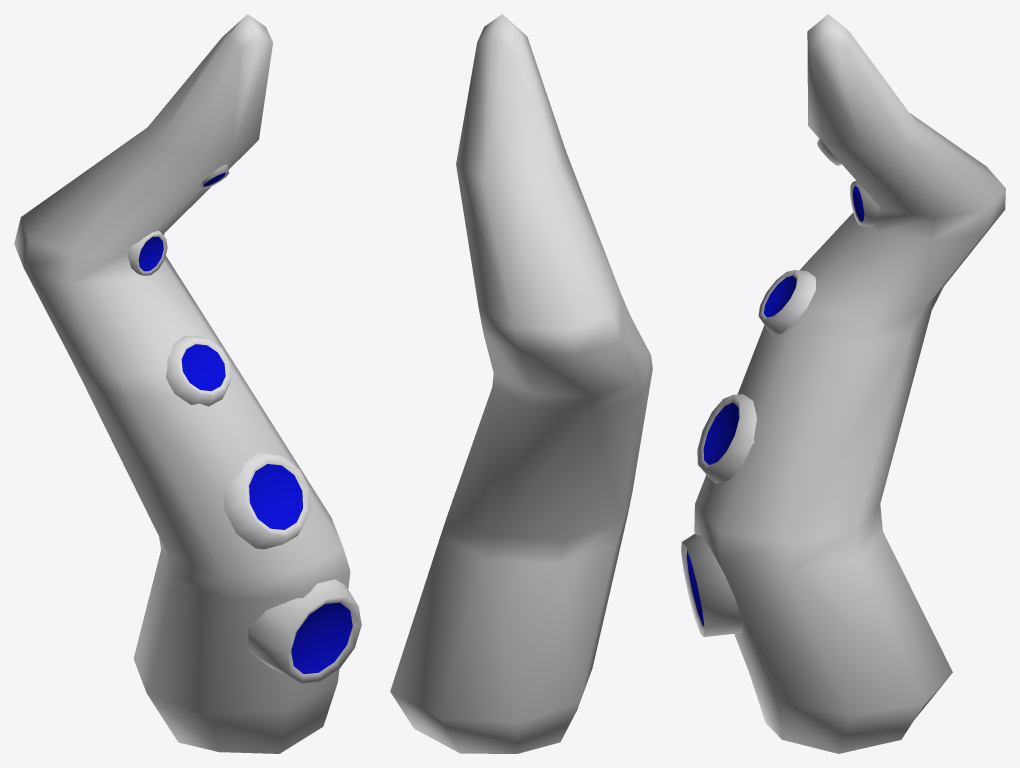
The model's file is SM_Tentacle_Small3.fbx.
The picture shows the model from 3 angles, left to right: view 1: azimuth 30°, elevation 25°; view 2: azimuth 150°, elevation 25°; view 3: azimuth 270°, elevation 25°; orthographic projection.
Parts seen in each view (by area): view 1: Tentacle_Small3; view 2: Tentacle_Small3; view 3: Tentacle_Small3.
Boxes of the visible parts, x1,y1,x2,y2 form: Tentacle_Small3: (14, 14, 361, 753); Tentacle_Small3: (390, 14, 652, 753); Tentacle_Small3: (681, 14, 1005, 753).
Size of the model in its own units: 95.99 by 258 by 105.
